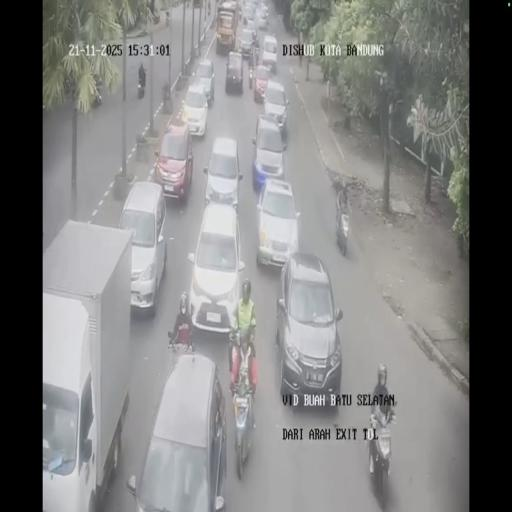car: (129, 350, 226, 510), (277, 252, 342, 404), (187, 202, 245, 333), (120, 180, 167, 312), (254, 175, 299, 269), (154, 122, 194, 201), (204, 135, 242, 211), (262, 79, 288, 135), (194, 58, 216, 104), (224, 50, 245, 93), (261, 34, 278, 72), (239, 28, 255, 59), (256, 3, 268, 28), (242, 0, 254, 23)
motorcycle: (228, 358, 258, 478), (365, 405, 395, 495), (335, 202, 349, 256), (138, 77, 146, 99), (248, 61, 254, 88), (254, 41, 260, 64), (238, 4, 242, 21), (166, 9, 170, 26)
truck: (41, 220, 133, 511), (215, 0, 240, 53)
